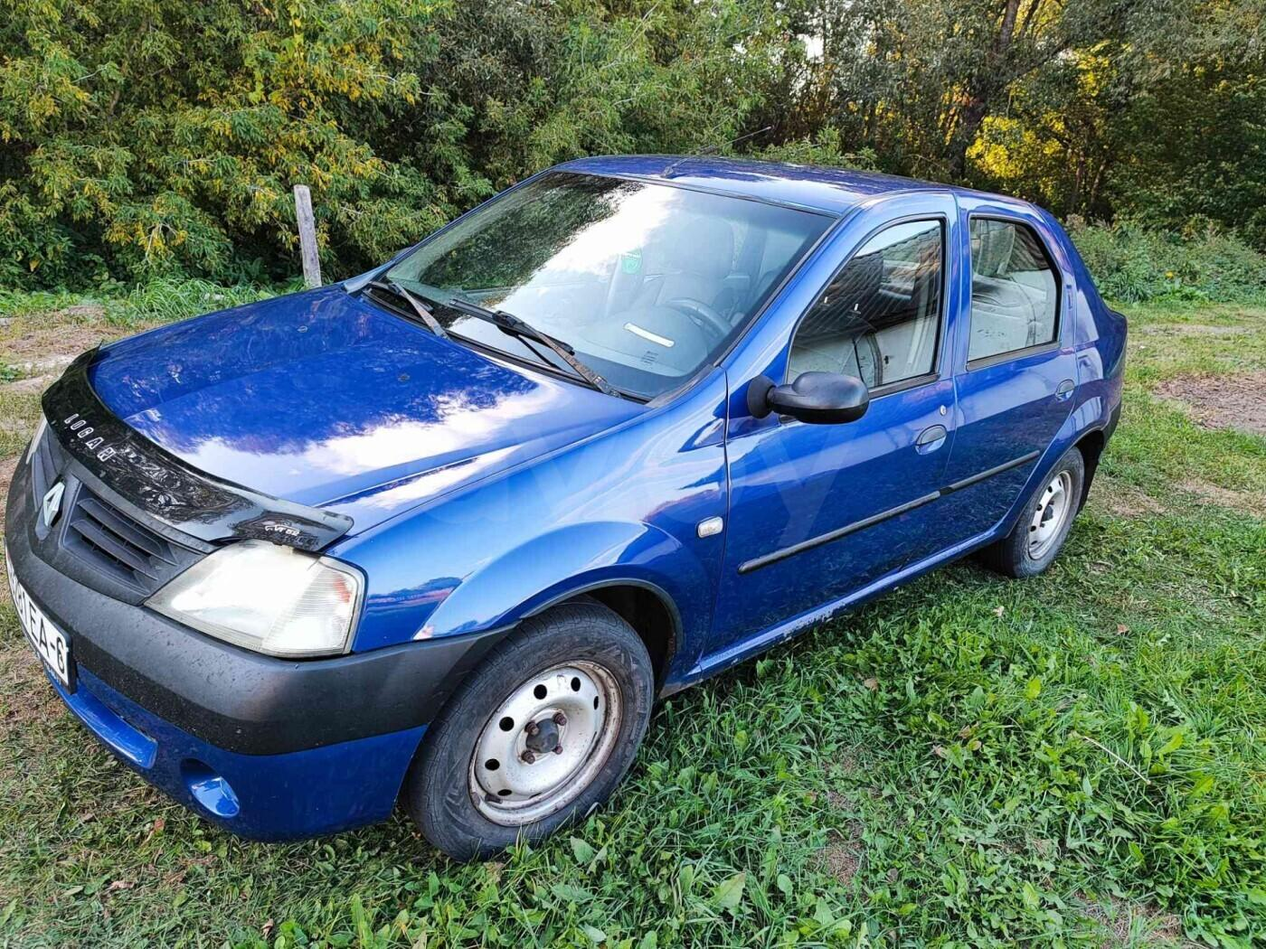Logan_2004-2009: (0, 152, 1133, 875)
